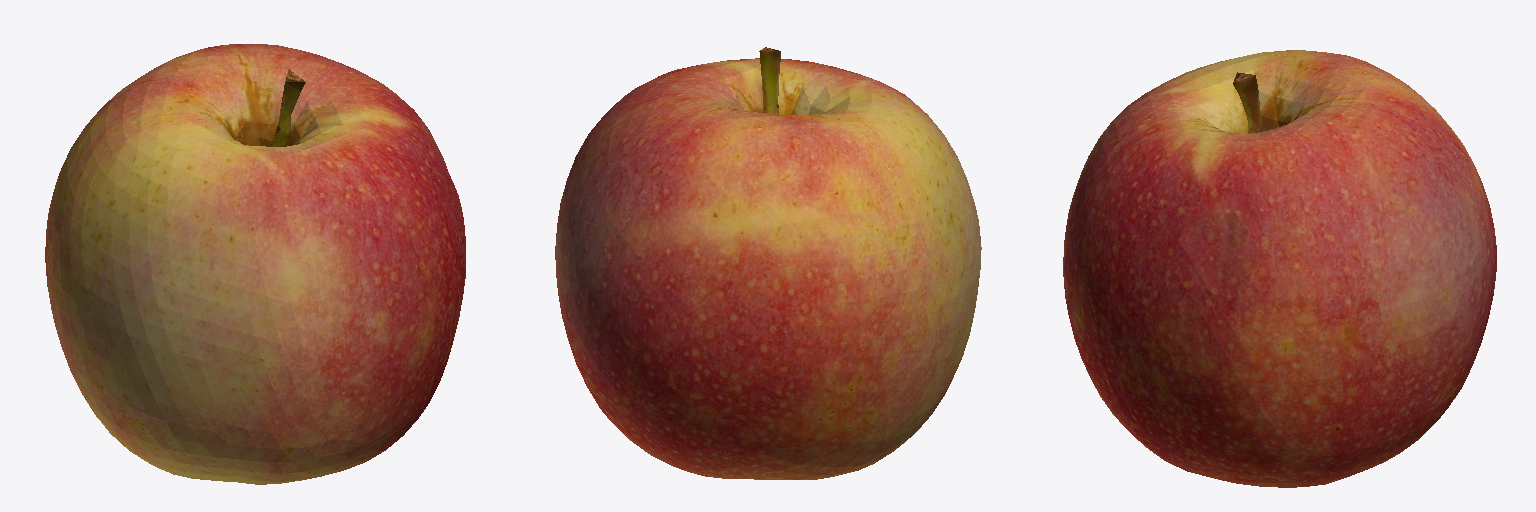
3 renders of one model, left to right at view 1: azimuth 30°, elevation 25°; view 2: azimuth 150°, elevation 25°; view 3: azimuth 270°, elevation 25°, orthographic.
Parts seen in each view (by area): view 1: Royal_Gala1_lowpoly; view 2: Royal_Gala1_lowpoly; view 3: Royal_Gala1_lowpoly.
Part boxes in pixels (bbox=[...]): Royal_Gala1_lowpoly: bbox=[45, 44, 465, 484]; Royal_Gala1_lowpoly: bbox=[555, 47, 981, 479]; Royal_Gala1_lowpoly: bbox=[1063, 50, 1496, 487].
Size of the model in its own units: 0.0617 by 0.061 by 0.0628.
Materials: 1 (1 with a texture image).